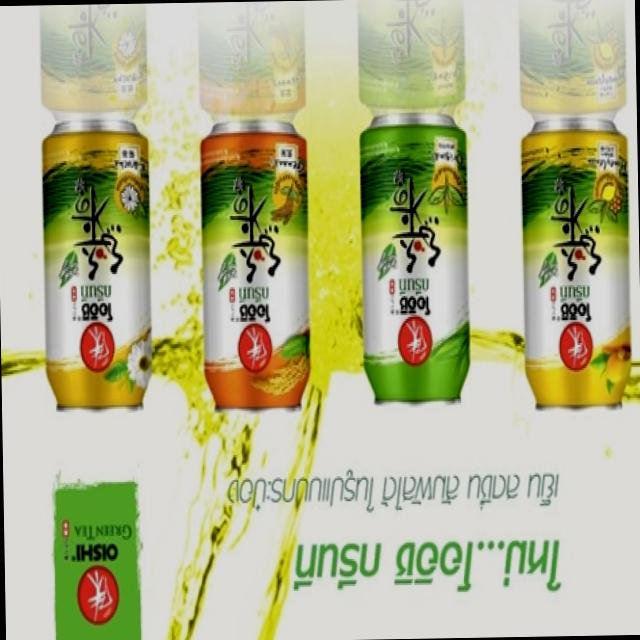can: (40, 115, 156, 418), (519, 116, 634, 417), (198, 115, 312, 418), (359, 109, 471, 408)
